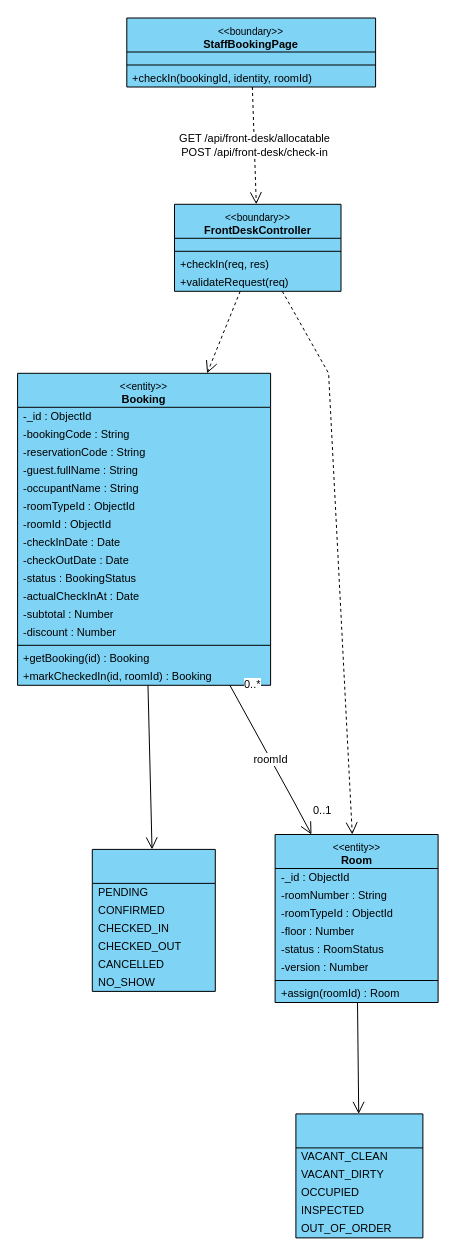
Image size: 456x1255. Some labels were removed from this diagram. The shapes that lost their labels are listed below. From the top down, each one's box as (x1, y1, x2, y2) in pixels, then its label:
(91, 848, 215, 991): <<enumeration>> BookingStatus
(295, 1113, 423, 1238): <<enumeration>> RoomStatus
